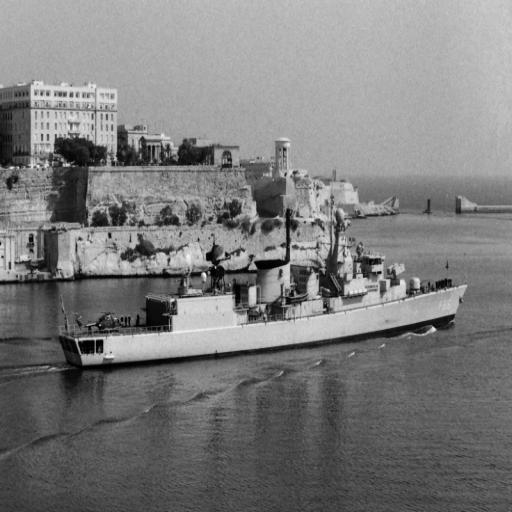Fragata: (56, 171, 473, 379)
